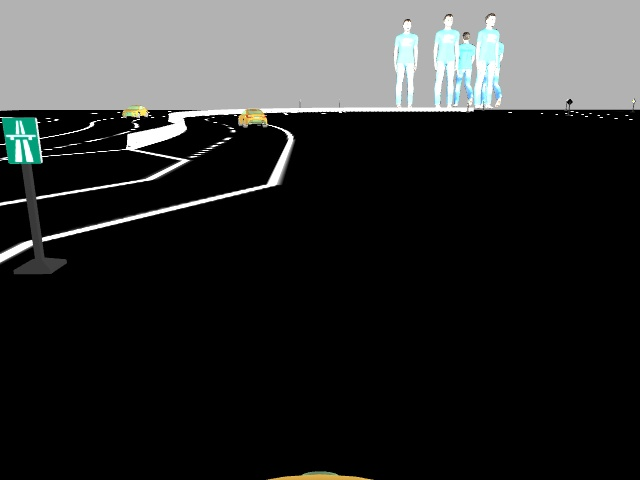HighwayEntrance: (1, 112, 45, 166)
